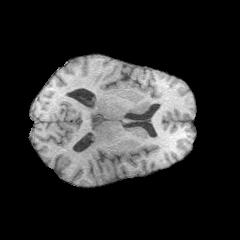glioma: (87, 109, 115, 148)
